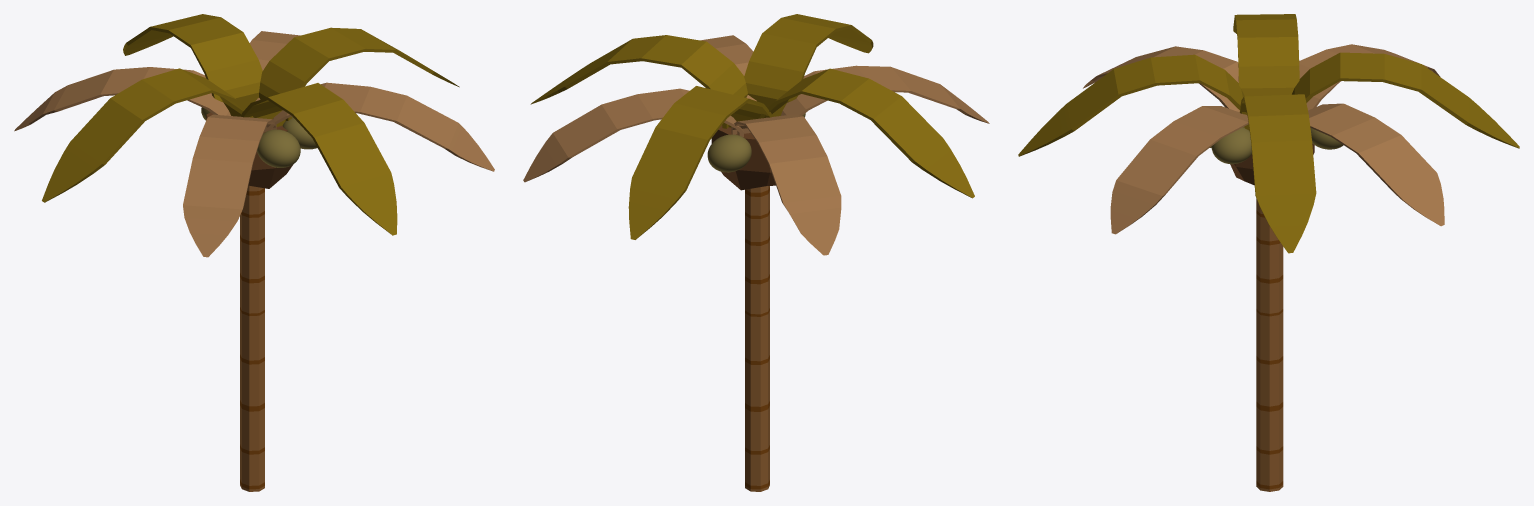
Rendered from PalmTreeDead.fbx.
The picture shows the model from 3 angles, left to right: view 1: azimuth 30°, elevation 25°; view 2: azimuth 150°, elevation 25°; view 3: azimuth 270°, elevation 25°; orthographic projection.
Visible parts, largest first — view 1: Cube.001; view 2: Cube.001; view 3: Cube.001.
Part boxes in pixels (left/top/right/bottom): Cube.001: left=14, top=14, right=494, bottom=491; Cube.001: left=523, top=14, right=989, bottom=491; Cube.001: left=1018, top=14, right=1519, bottom=491.
Size of the model in its own units: 678 by 635 by 685.
